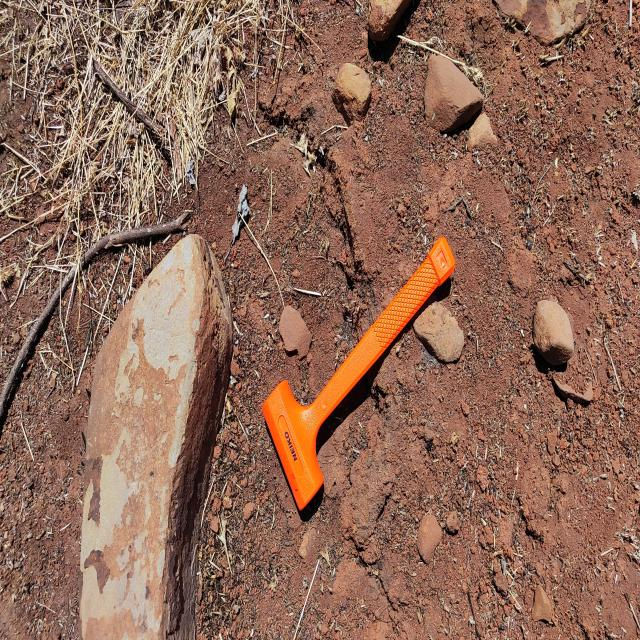Orange_hammer: (261, 234, 456, 513)
